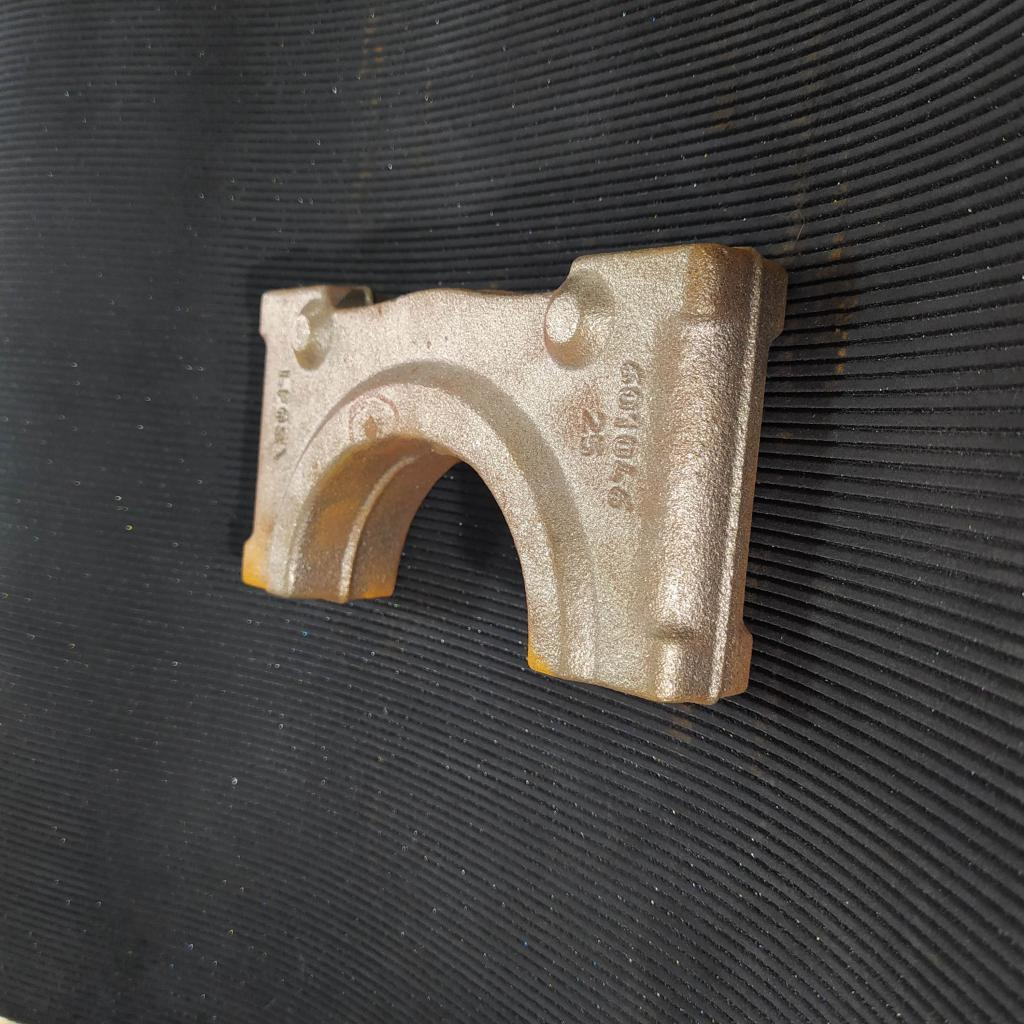mancha (ferrugem): (363, 416, 385, 443)
